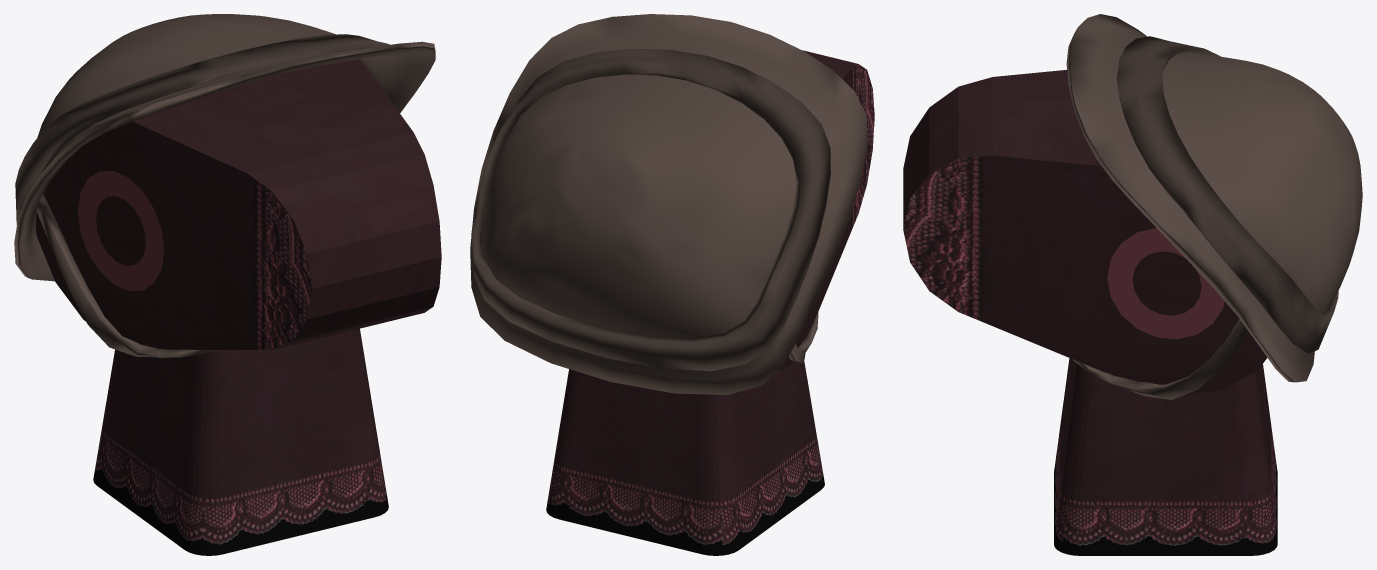
The model's file is tabling.glb.
3 views of the same model, side by side, from view 1: azimuth 30°, elevation 25°; view 2: azimuth 150°, elevation 25°; view 3: azimuth 270°, elevation 25° (orthographic). The views are drawn at different scales.
Parts seen in each view (by area): view 1: randallBASE.head, randallBASE.torso, Circle, Circle.001; view 2: Circle, randallBASE.torso, randallBASE.head, Circle.001; view 3: randallBASE.head, Circle, randallBASE.torso, Circle.001.
Part boxes in pixels (x1,y1,x2,y2): randallBASE.head: (36,59,441,349); randallBASE.torso: (93,328,388,555); Circle: (14,14,435,281); Circle.001: (36,193,219,357); Circle: (470,14,867,395); randallBASE.torso: (546,361,824,555); randallBASE.head: (778,50,874,370); Circle.001: (485,198,818,363); randallBASE.head: (903,70,1267,393); Circle: (1066,14,1362,382); randallBASE.torso: (1054,358,1277,555); Circle.001: (1072,319,1248,399).
Size of the model in its own units: 0.0501 by 0.0593 by 0.0546.
4 materials, 1 textured.
